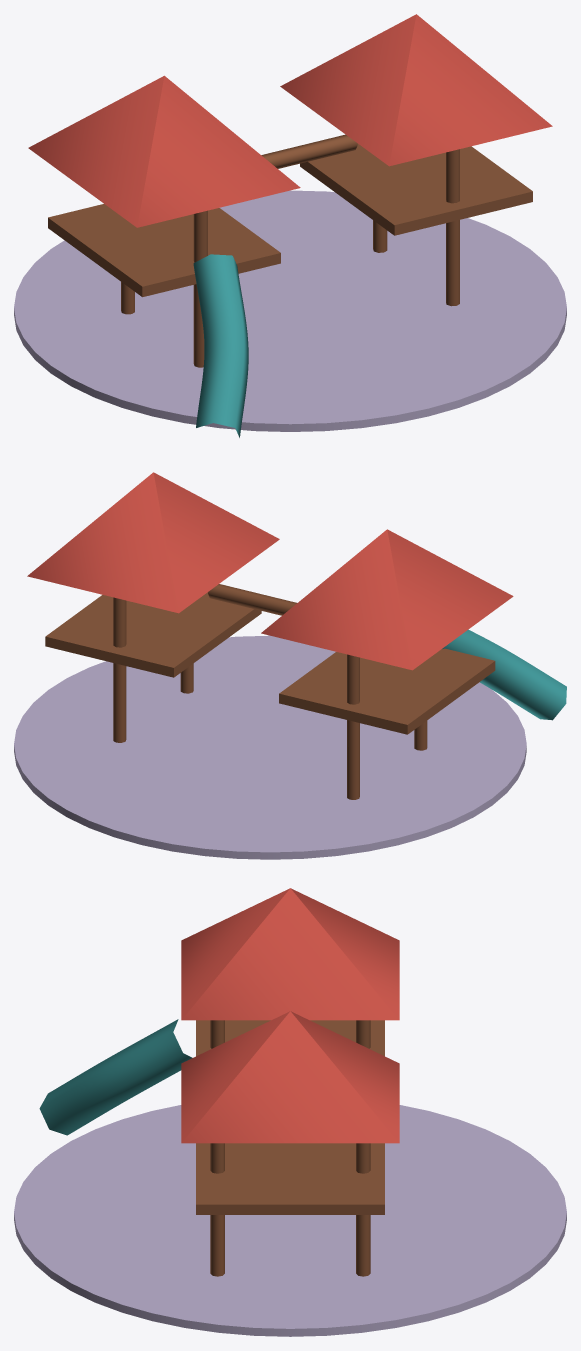
The model's file is camp.glb.
The picture shows the model from 3 angles, top to bottom: view 1: azimuth 30°, elevation 25°; view 2: azimuth 150°, elevation 25°; view 3: azimuth 270°, elevation 25°; orthographic projection. The views are drawn at different scales.
Size of the model in its own units: 3.8 by 2.07 by 3.8.
